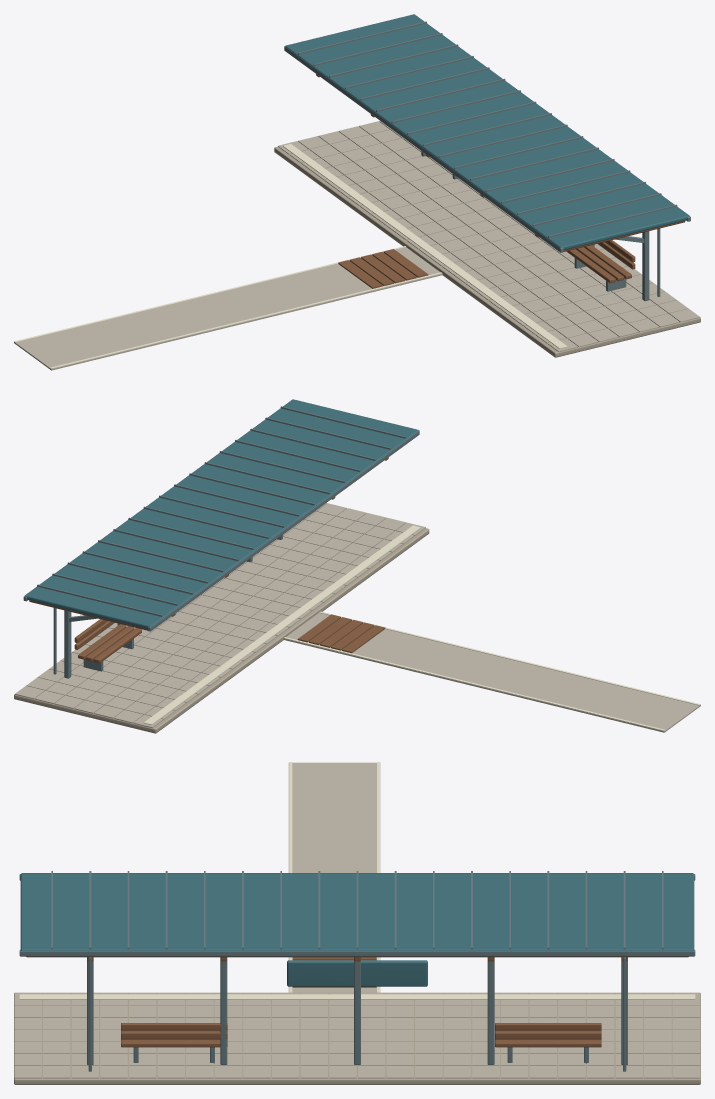
Rendered from train-stop-east.glb.
The picture shows the model from 3 angles, top to bottom: view 1: azimuth 30°, elevation 25°; view 2: azimuth 150°, elevation 25°; view 3: azimuth 270°, elevation 25°; orthographic projection. The views are drawn at different scales.
Visible parts, largest first — view 1: TrainStop_east; view 2: TrainStop_east; view 3: TrainStop_east.
Boxes of the visible parts, left/top/right/bottom form: TrainStop_east: left=14, top=14, right=700, bottom=370; TrainStop_east: left=14, top=399, right=700, bottom=733; TrainStop_east: left=14, top=762, right=700, bottom=1084.
Size of the model in its own units: 19.84 by 3.83 by 18.
